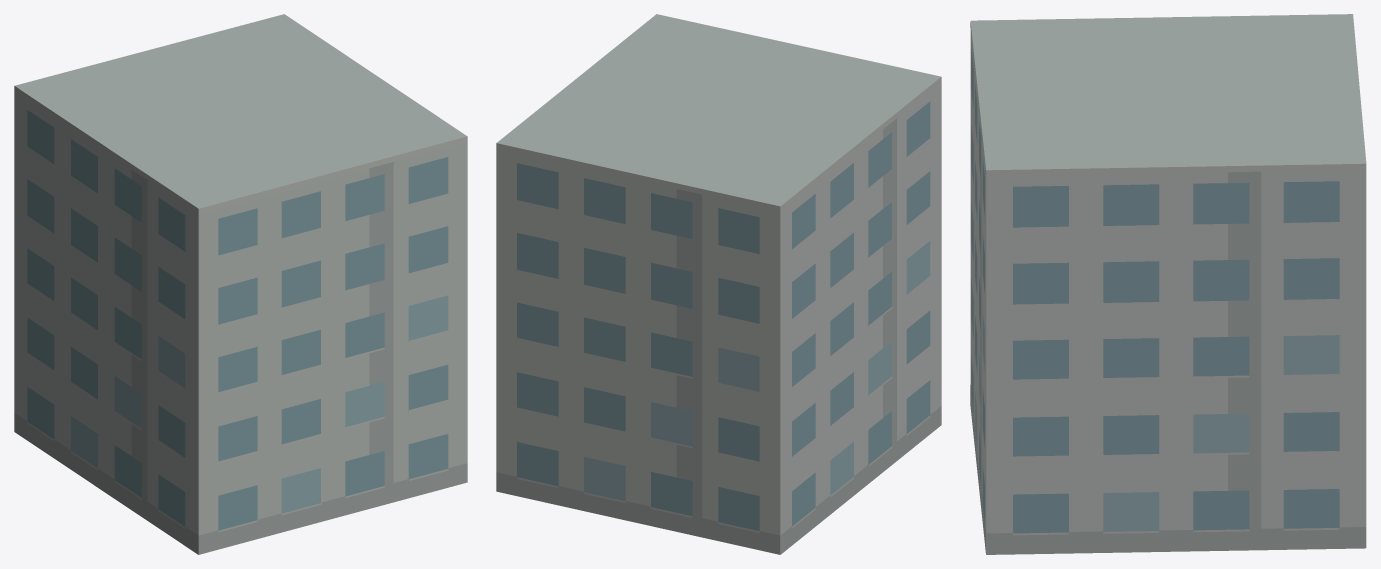
The model's file is survey-upis-32960058.glb.
The picture shows the model from 3 angles, left to right: view 1: azimuth 30°, elevation 25°; view 2: azimuth 150°, elevation 25°; view 3: azimuth 270°, elevation 25°; orthographic projection. The views are drawn at different scales.
Visible parts, largest first — view 1: survey-upis-32960058.tmp; view 2: survey-upis-32960058.tmp; view 3: survey-upis-32960058.tmp.
Boxes of the visible parts, x1,y1,x2,y2 form: survey-upis-32960058.tmp: (14, 14, 467, 554); survey-upis-32960058.tmp: (496, 14, 941, 554); survey-upis-32960058.tmp: (970, 14, 1366, 554).
Size of the model in its own units: 13.29 by 15.25 by 14.24.
